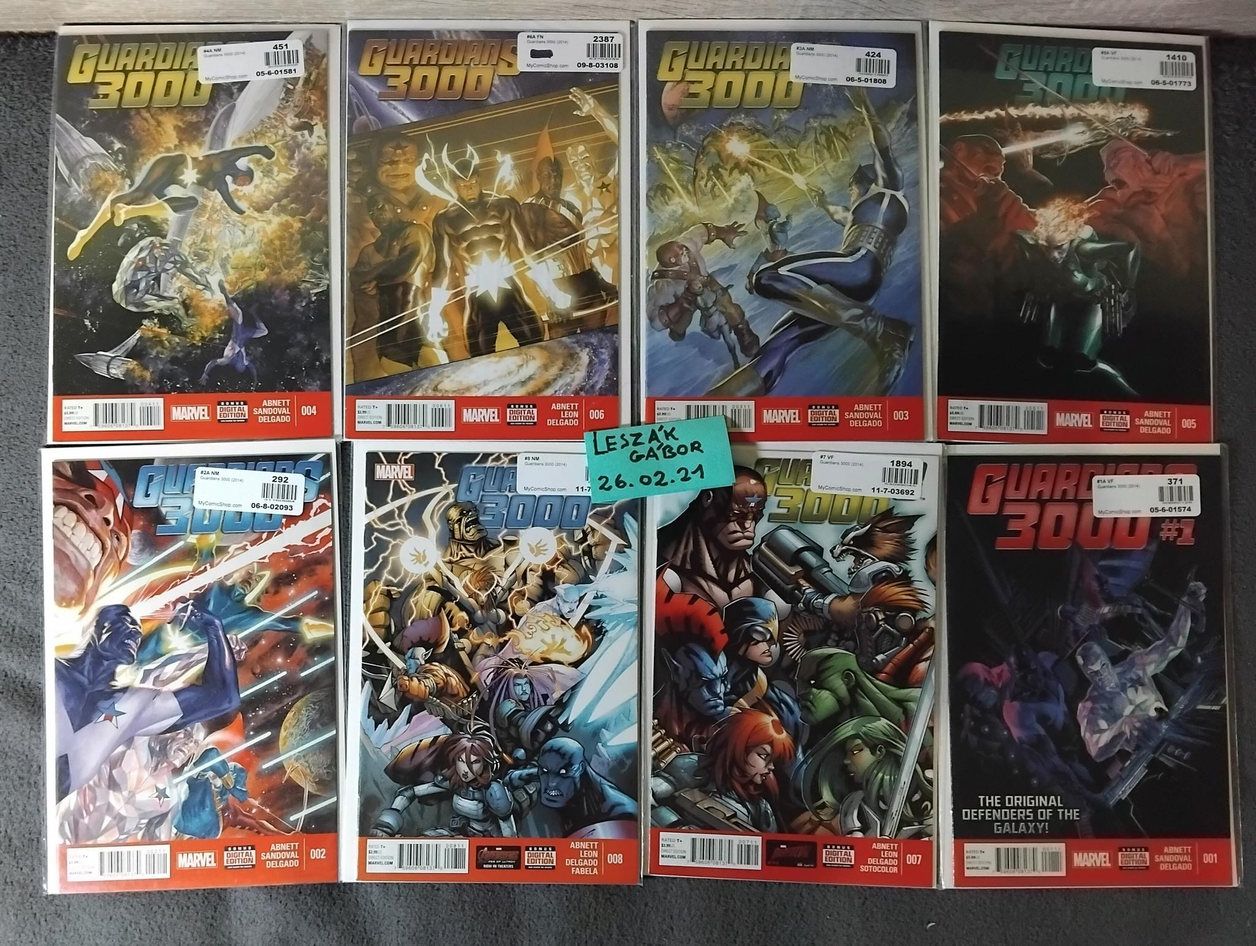comic: (41, 440, 342, 893), (341, 440, 644, 883), (643, 441, 942, 887), (940, 446, 1238, 887), (635, 19, 932, 442), (48, 26, 339, 442), (344, 21, 631, 439), (930, 21, 1213, 444)
